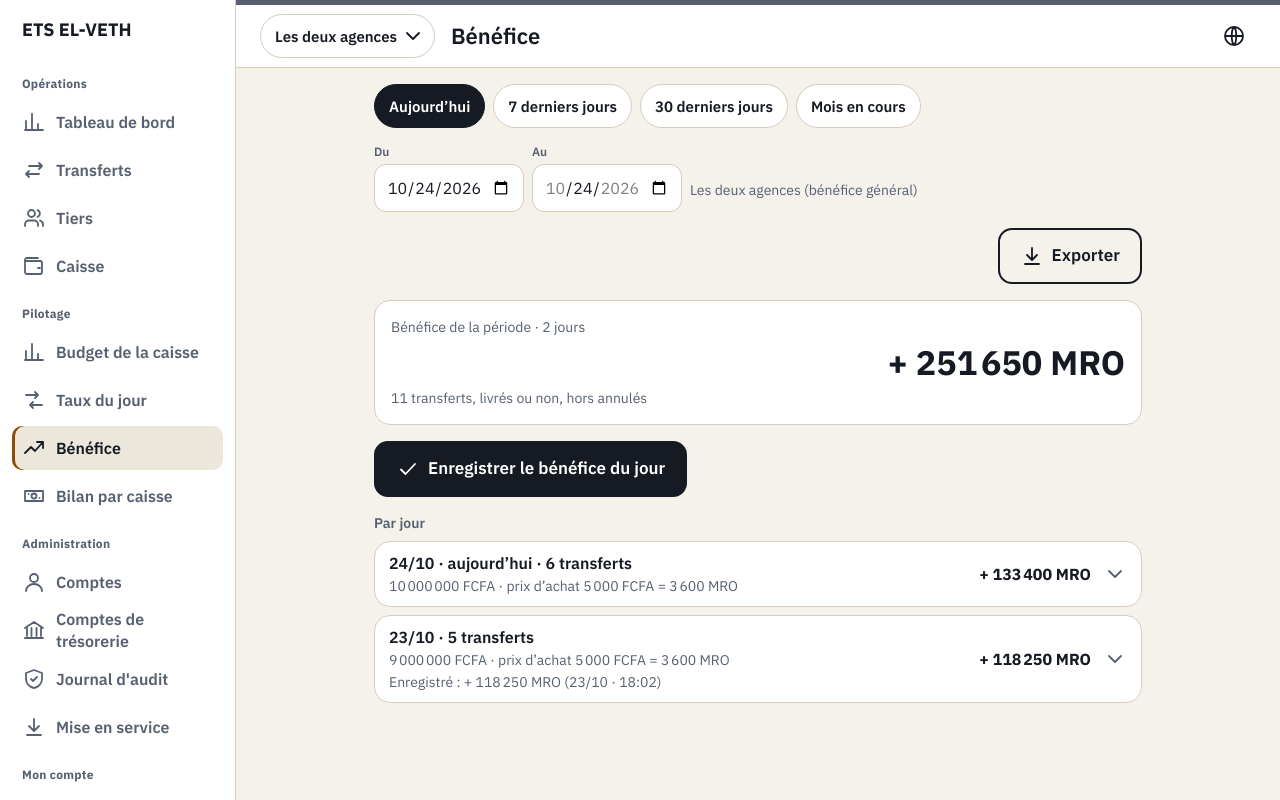
Test: Bénéfice — Superviseur › déplie un jour sur ses transferts : formule lue ligne à ligne, perte écrite en toutes lettres
Click the button that starts with "· aujourd’hui": {"x": 412, "y": 562} [375, 542, 1141, 606]
(page scrolled)
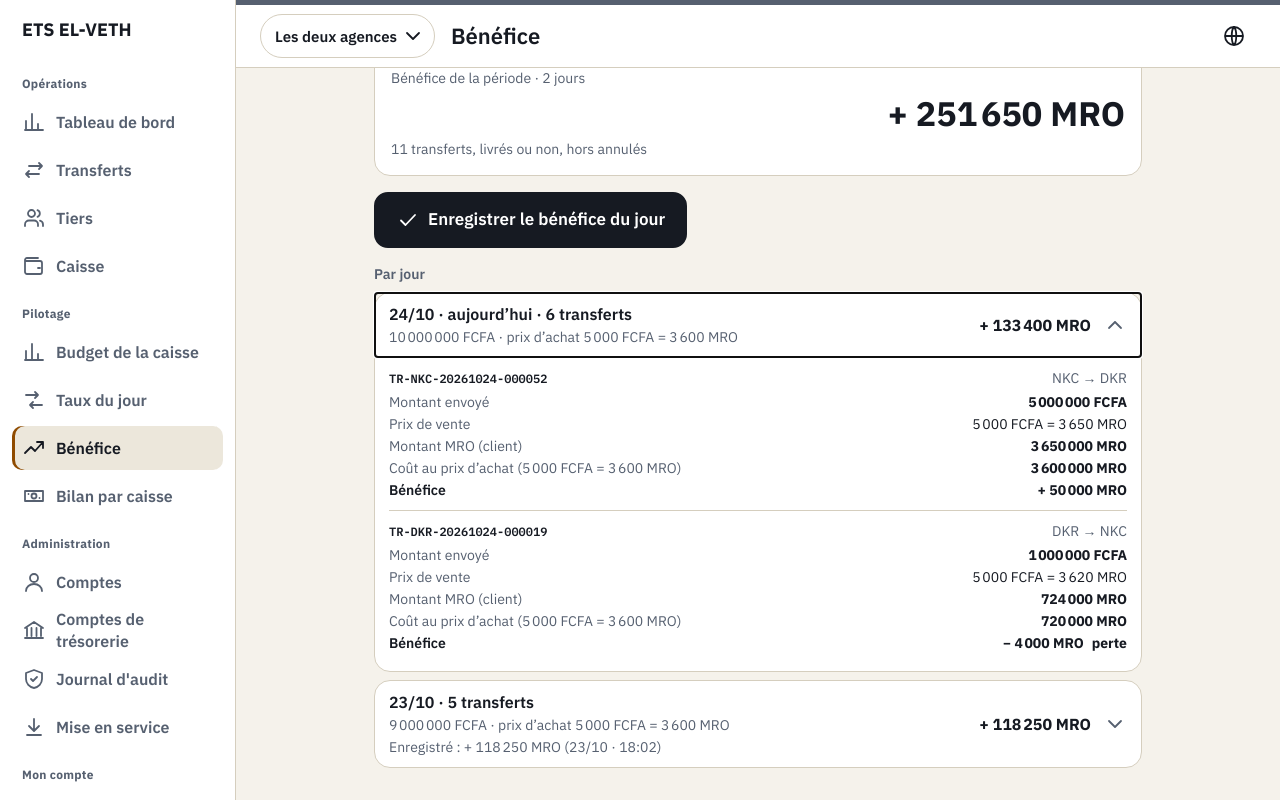
Check: the text "TR-NKC-20261024-000052" is shown, box [389, 371, 547, 387]
Check: the text "NKC → DKR" is shown, box [1052, 368, 1127, 388]
Check: the text "3 600 000 MRO" is shown, box [1031, 459, 1127, 477]
